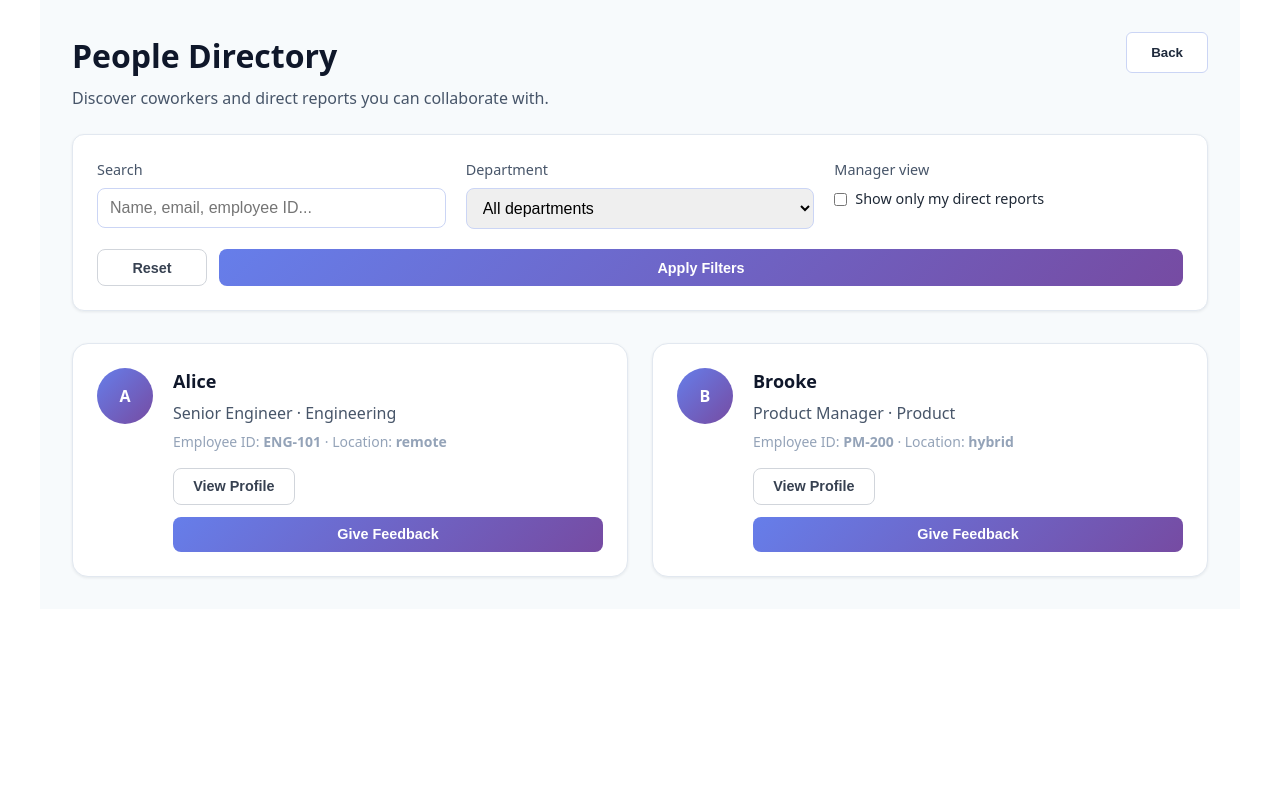
Test: DirectoryPage › renders coworker cards and opens feedback modal
Expected: the text "Product Manager · Product" is shown, x1=753 y1=402 x2=955 y2=424
What coordinates should you click on to do the following:
click the button "Give Feedback" below "ENG-101"
I would click on:
 (388, 534)
Its box is x1=173 y1=517 x2=603 y2=552.
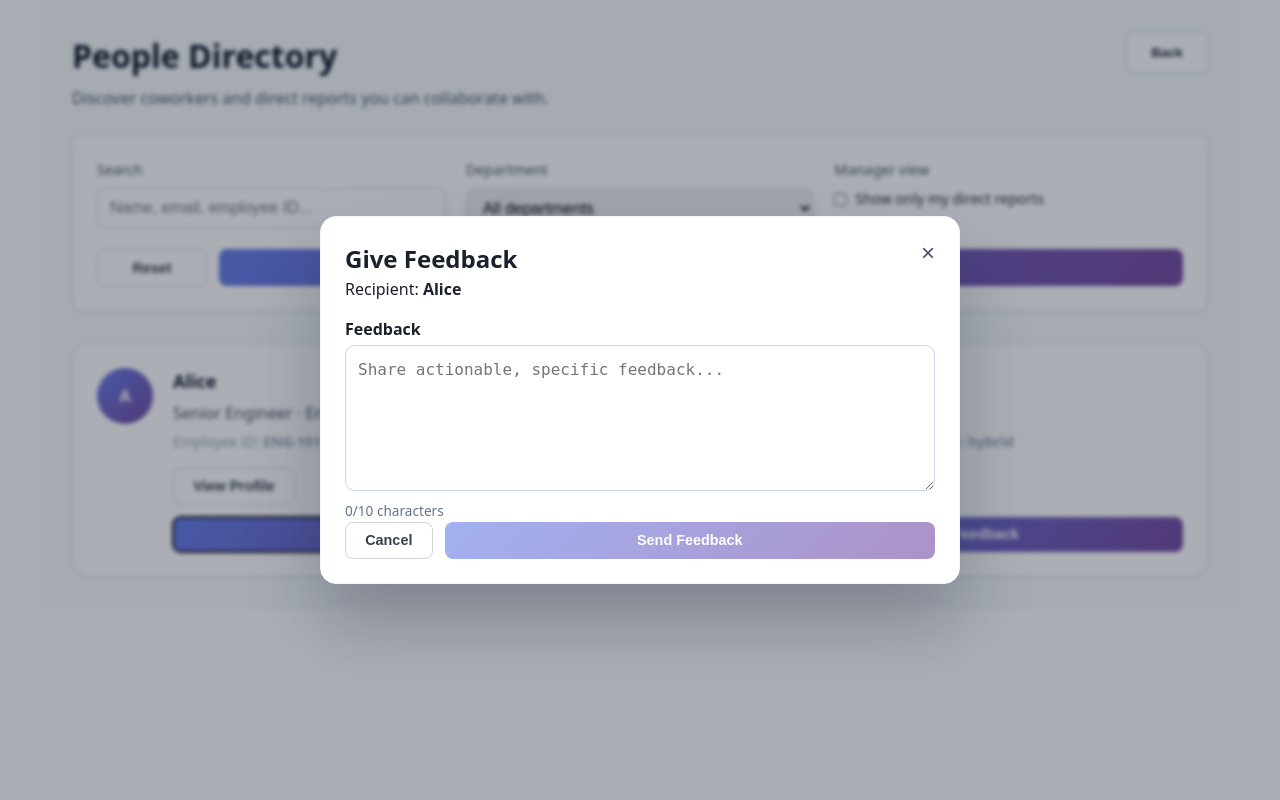
Now the text "Recipient: Alice" is shown, box x1=345 y1=278 x2=461 y2=300
